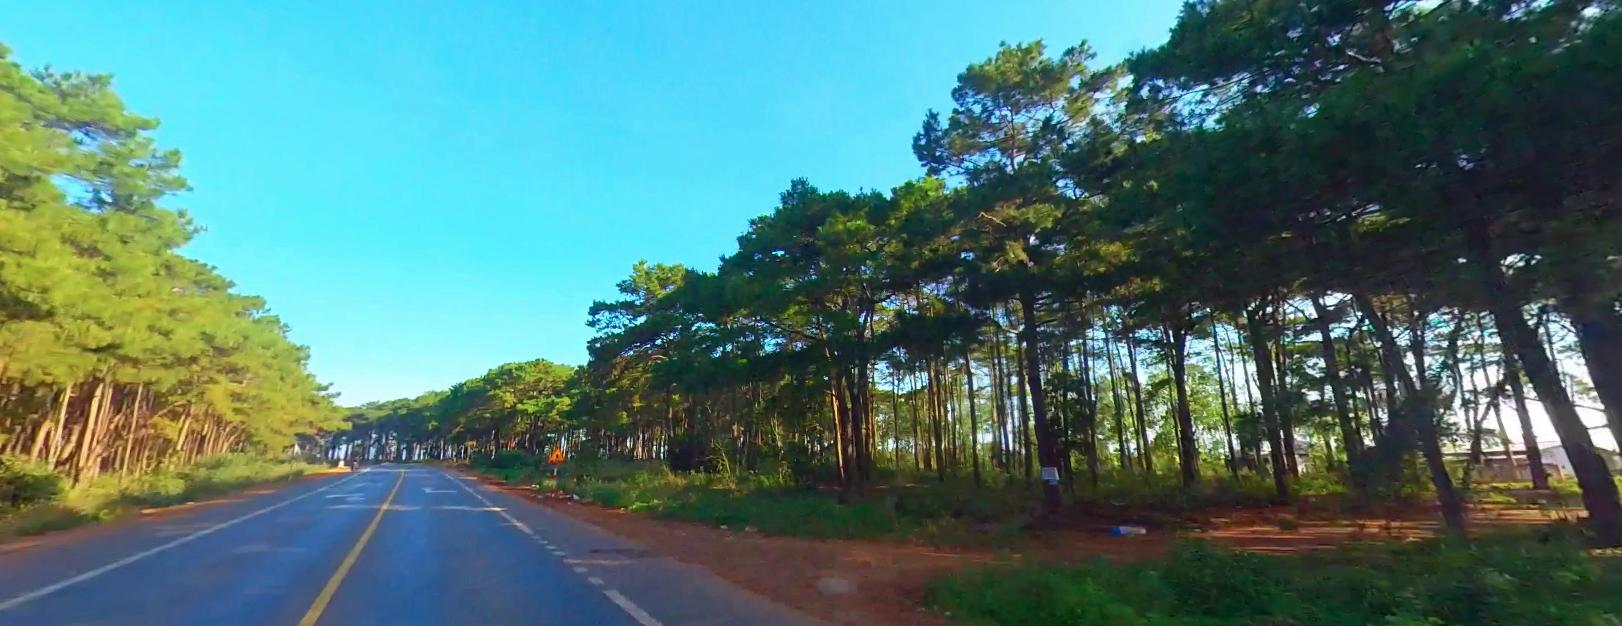Nguy hiem: (548, 445, 566, 461)
